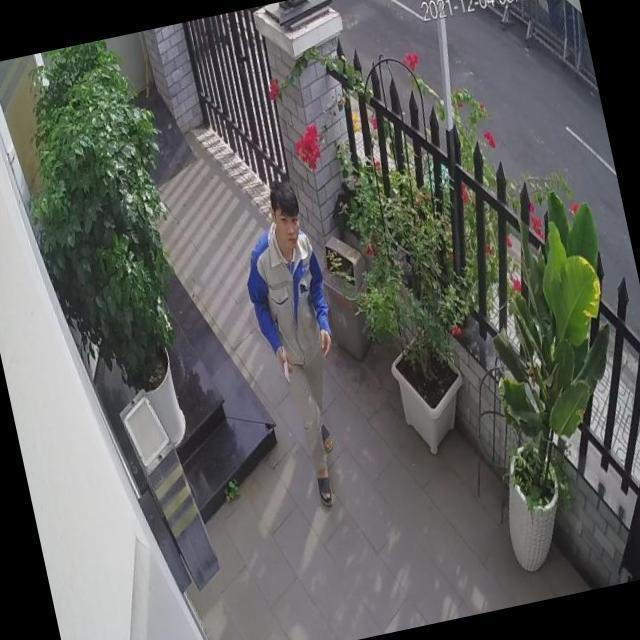person: (228, 174, 371, 512)
